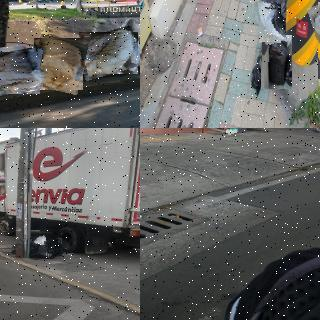Garbage: (76, 28, 140, 77), (32, 36, 86, 93), (0, 49, 41, 96), (262, 35, 292, 89), (256, 0, 284, 43), (312, 1, 320, 80), (30, 245, 55, 259), (45, 238, 63, 257), (32, 236, 47, 246), (225, 128, 246, 134)
